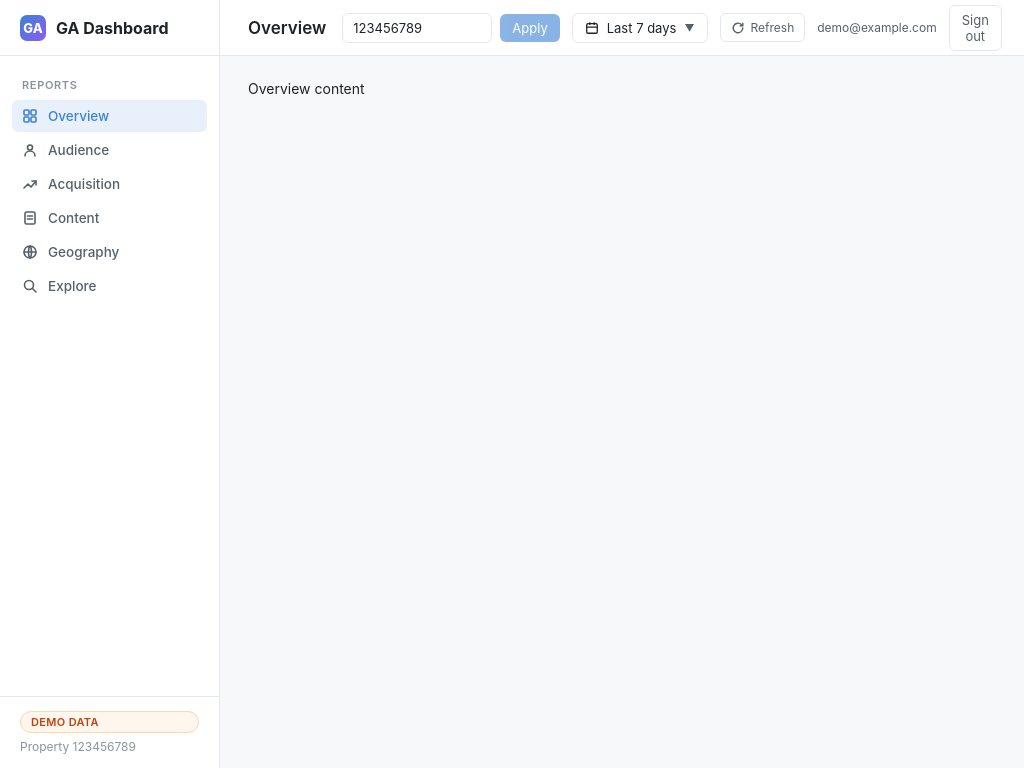
Test case: DashboardLayout › exposes the date range picker in the header
Click the button "Last 7 days ▼" at coordinates (640, 28), box [572,12,708,42]
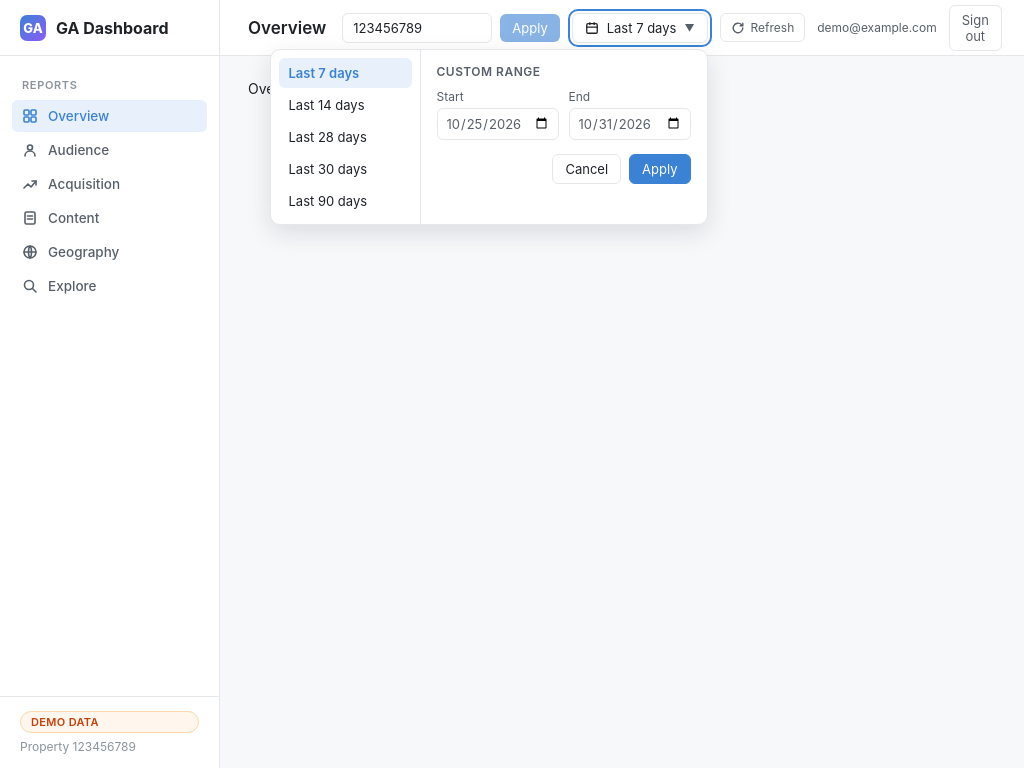
Click the button "Last 90 days" at coordinates (345, 200), box [278,186,412,216]
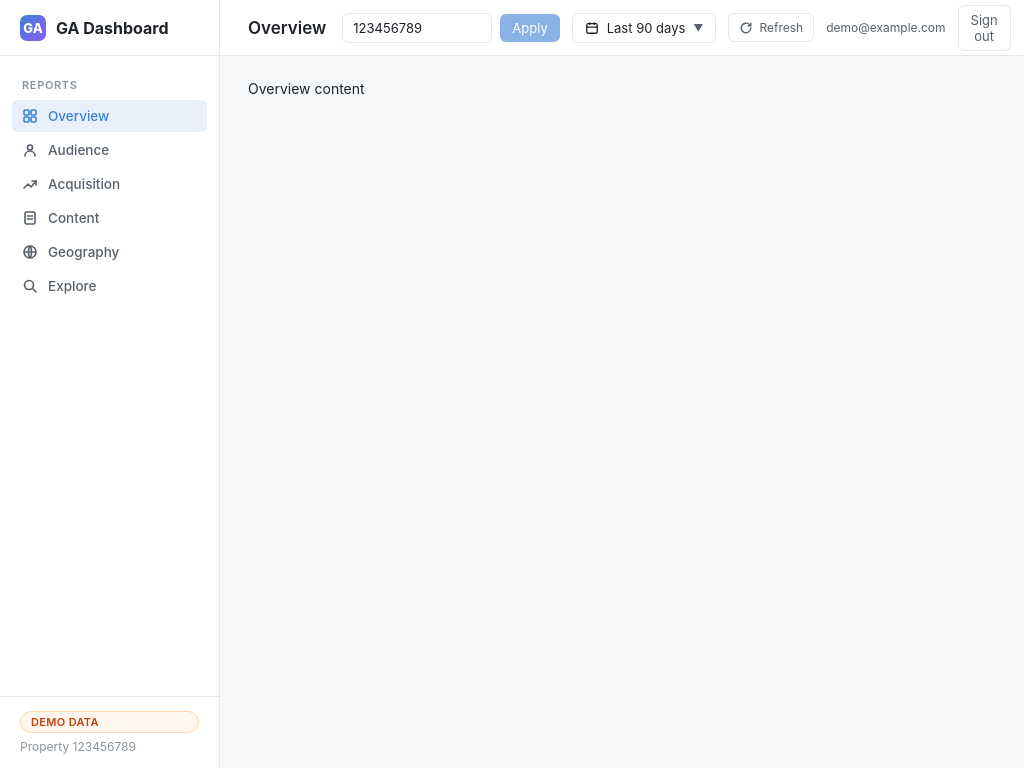
Now the button "Last 90 days ▼" is shown, box [572,12,716,42]
